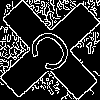C: (25, 25, 82, 83)
